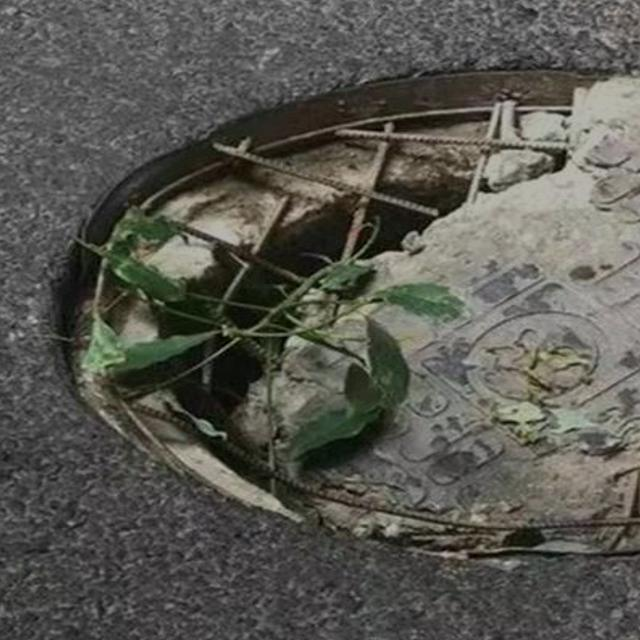broke: (36, 55, 640, 566)
